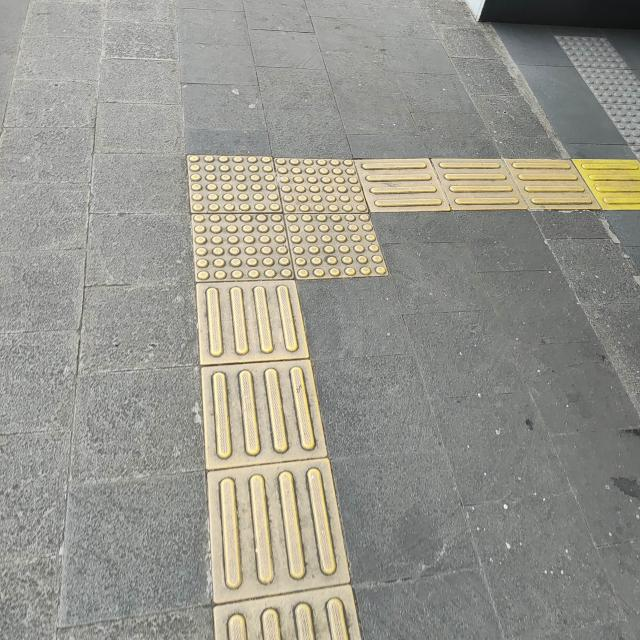kanan: (114, 102, 589, 336)
